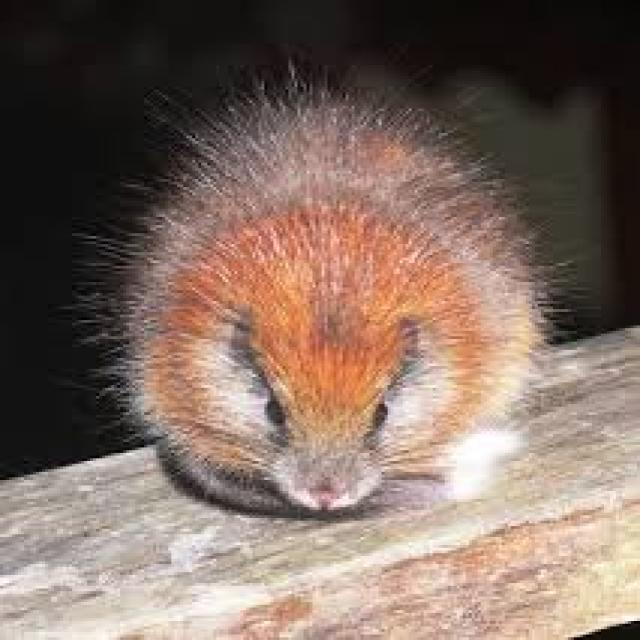Rat: (134, 89, 522, 513)
